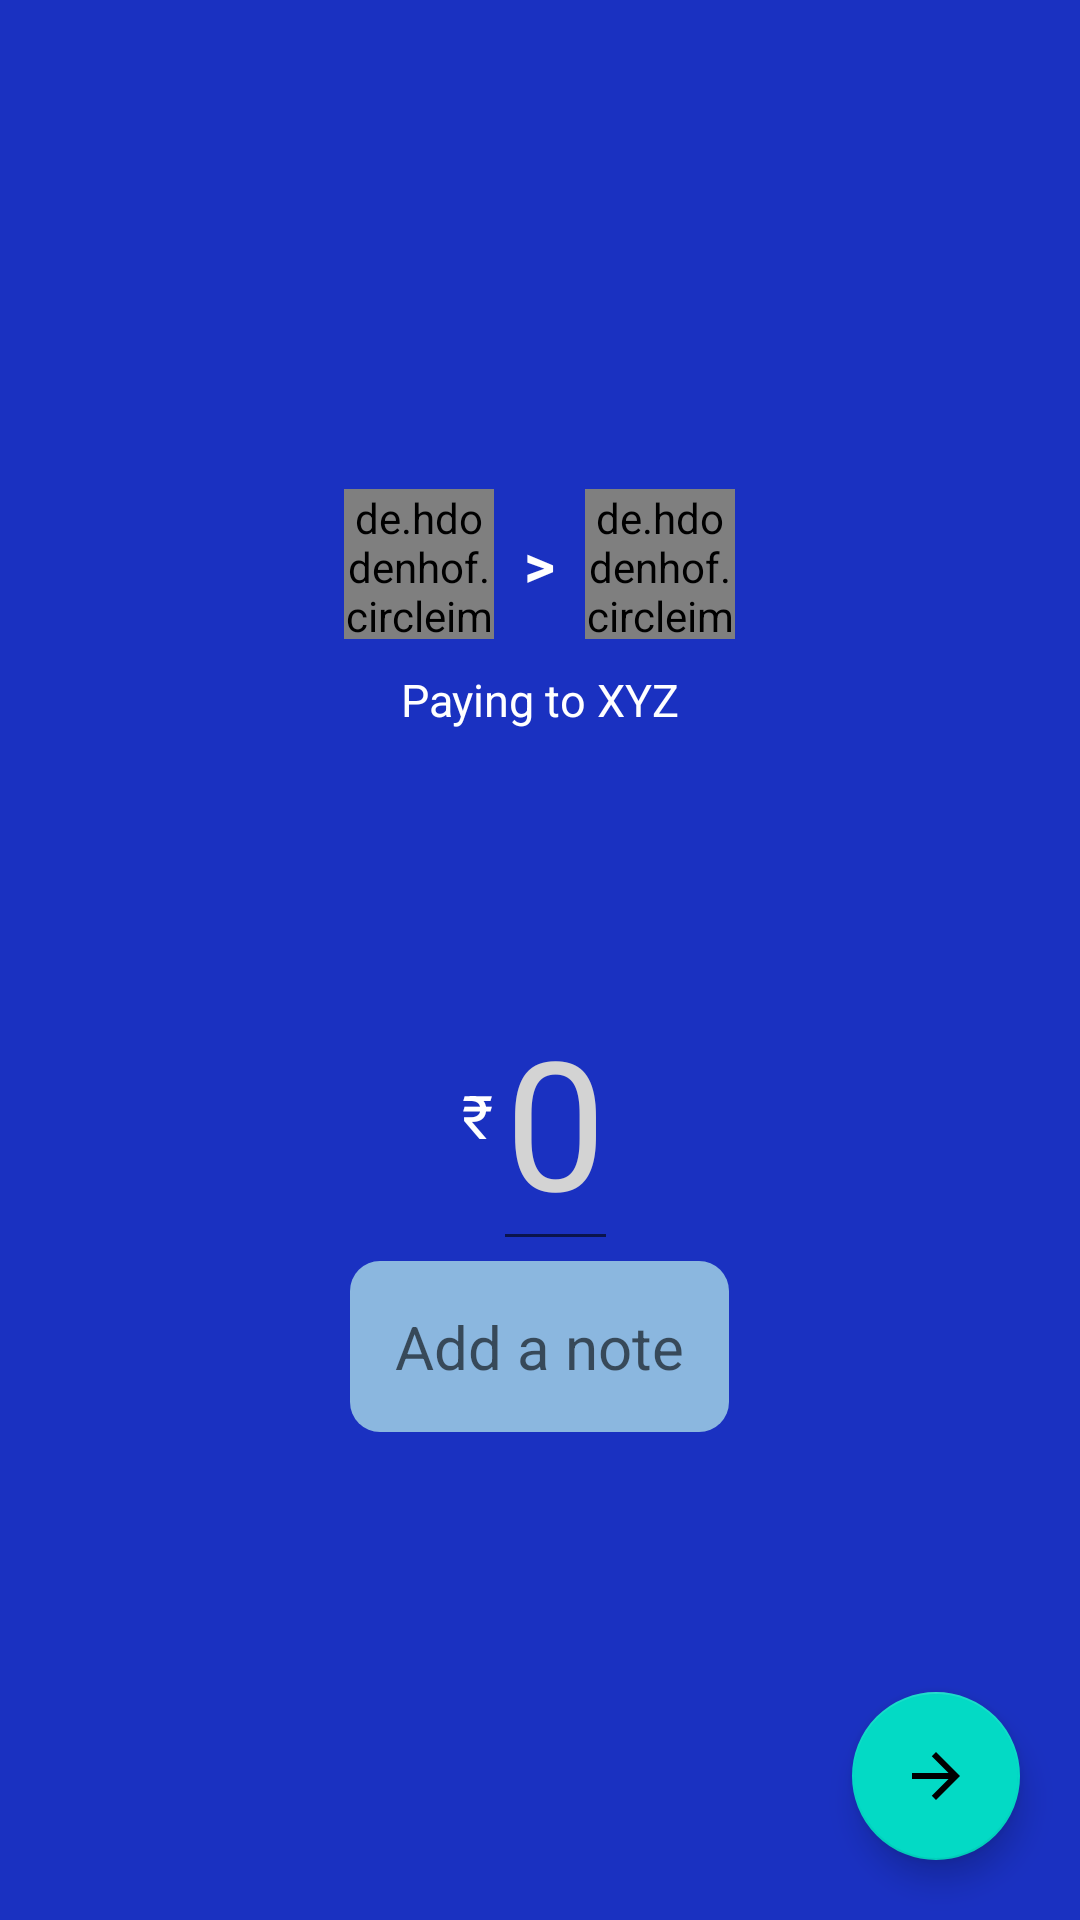

Icon click points for this 1080x1920 phone screenshot, format point (x, y):
arrow forward: point (936, 1776)
